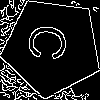C: (27, 22, 77, 64)
